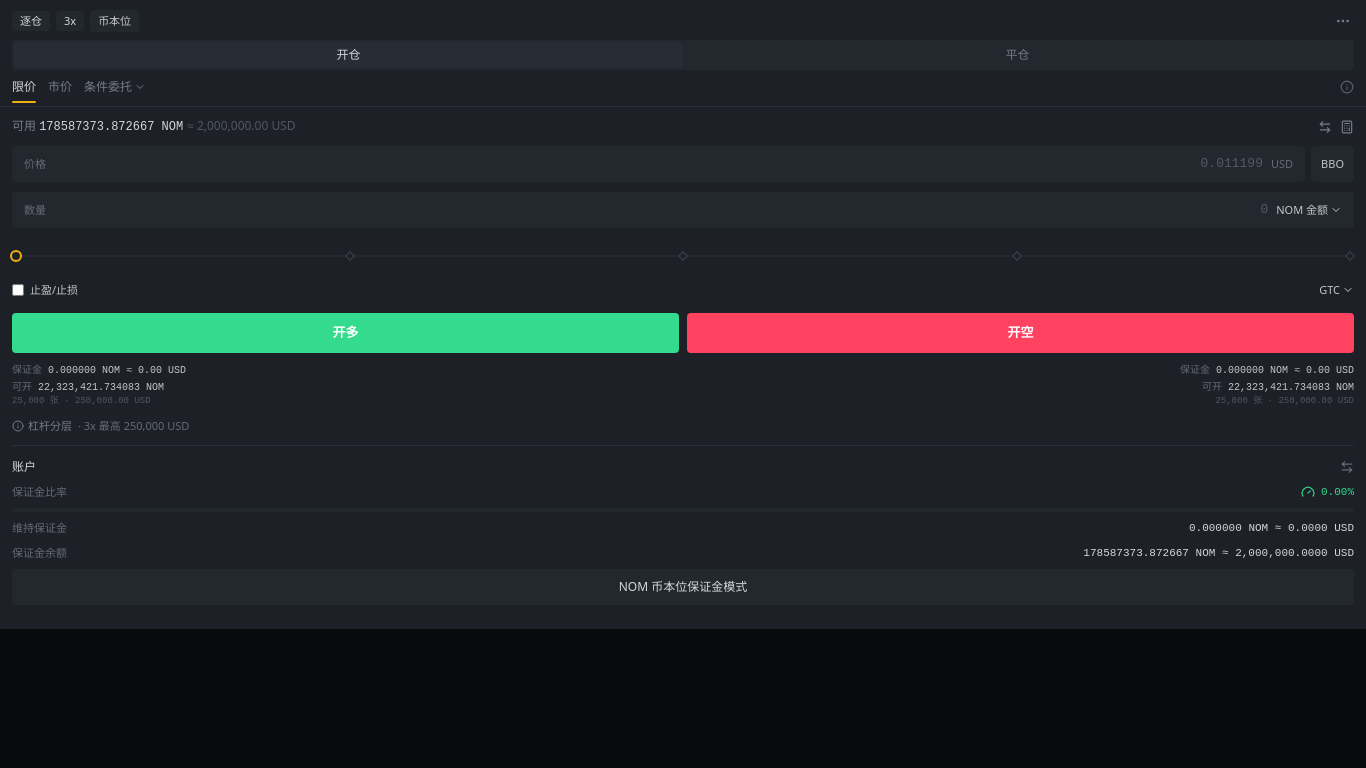
Test: 条件委托按触发价折算 › 最小下单量提示与拦截用同一个价——否则会出现「请至少填 892.96」却拒收 900
The width and height of the screenshot is (1366, 768).
Click the button with test id "advanced-type-slot": [115, 90] box [84, 78, 146, 102]
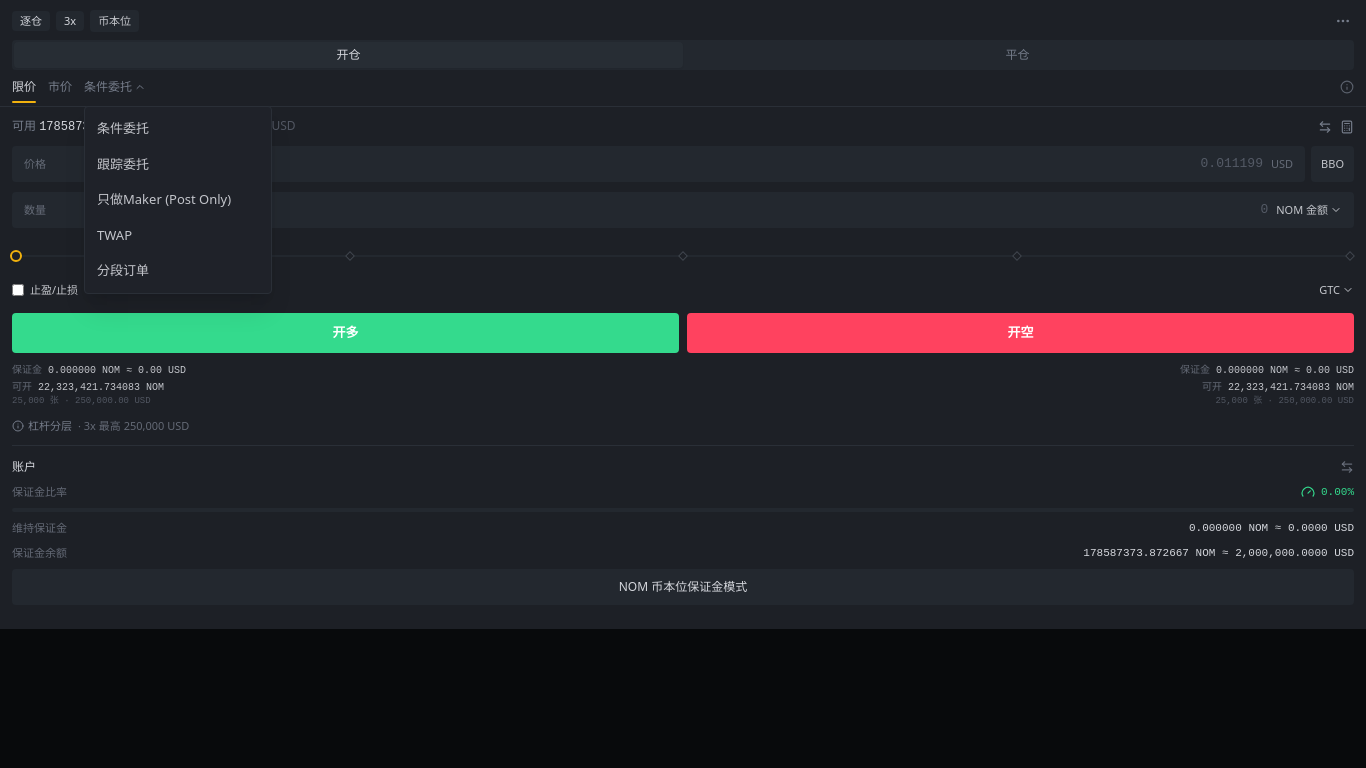
Click the 2nd button "条件委托": [178, 129] box [85, 111, 271, 146]
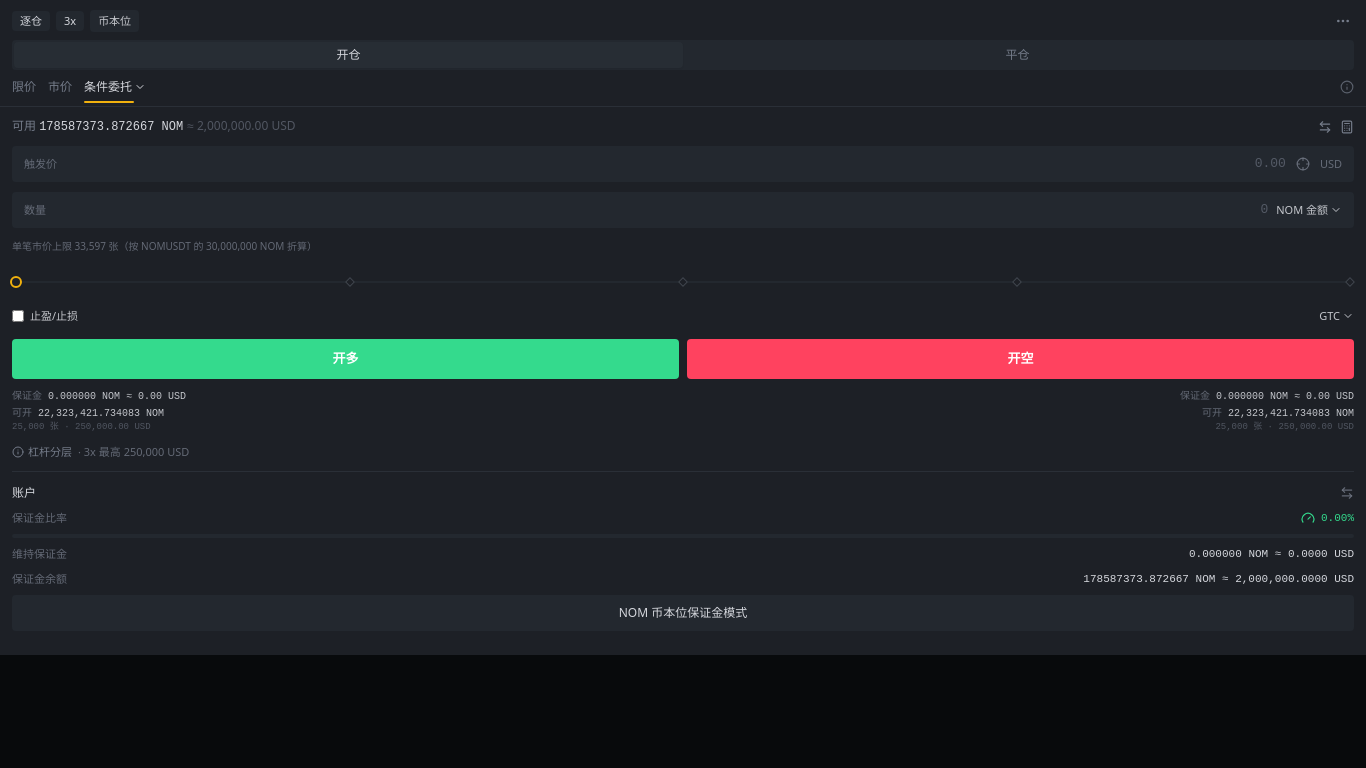
In the field with test id "order-trigger-price": [675, 164] box [65, 154, 1286, 174], type "0.010344"
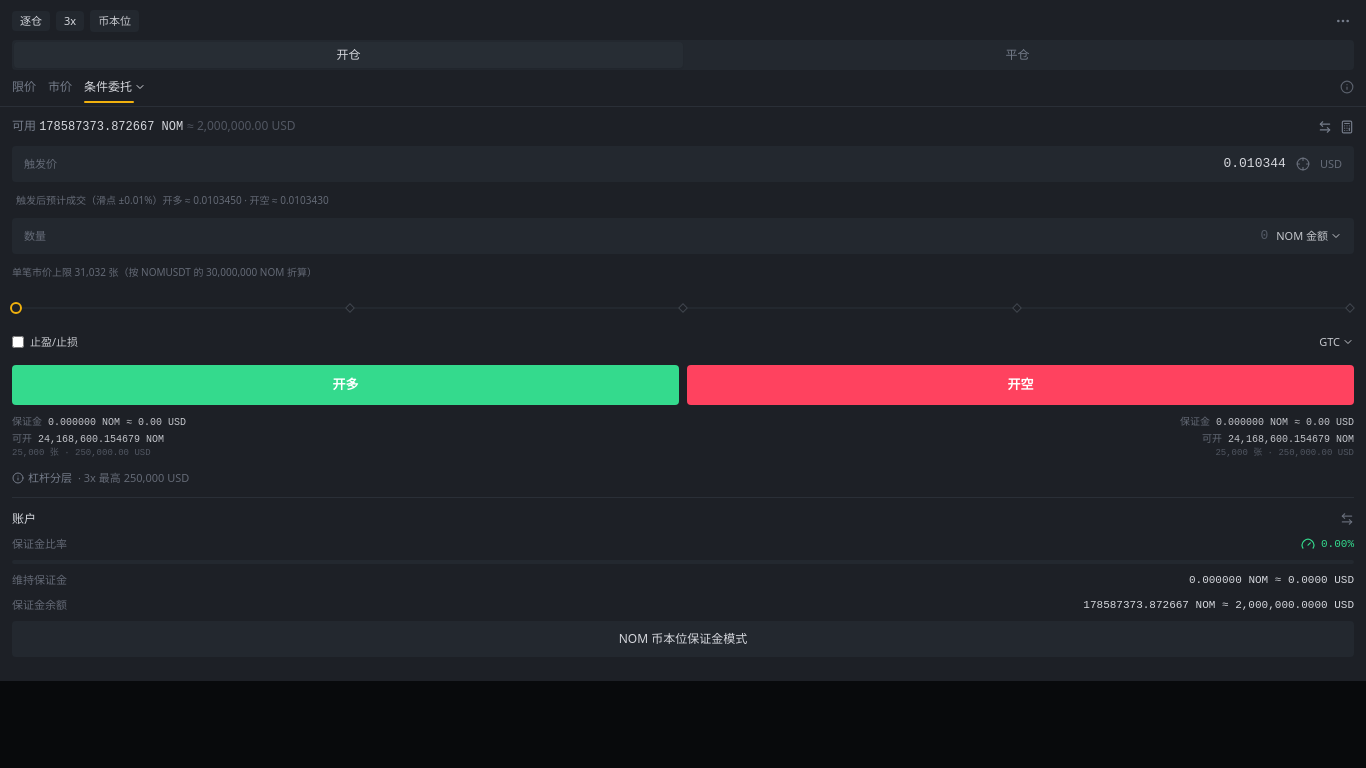
In the field with test id "order-qty-input": [661, 236] box [54, 226, 1268, 246], type "900"
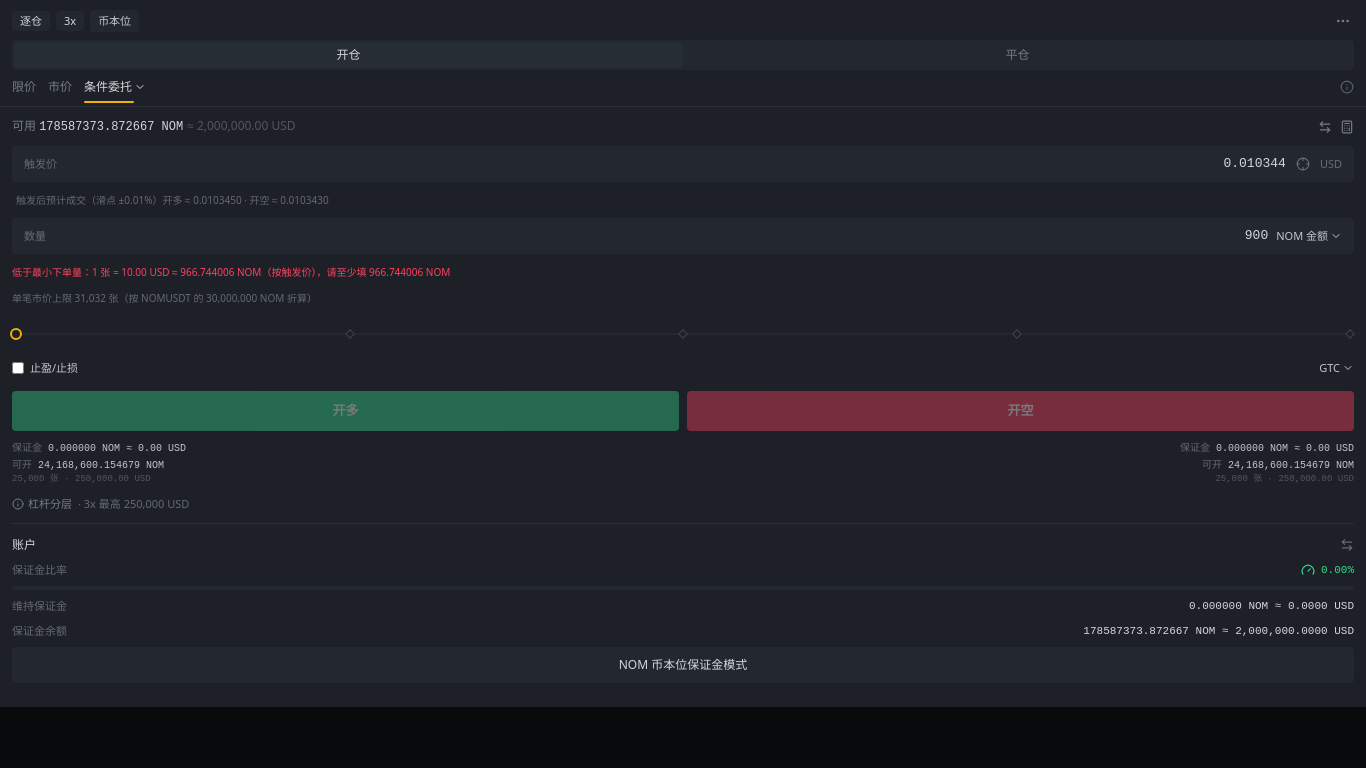
expect the text with test id "coin-min-order-hint" does not show "892.9": met, box [12, 265, 450, 279]
expect the text with test id "coin-min-order-hint" shows "966.744006": met, box [369, 265, 423, 279]
expect the text with test id "coin-min-order-hint" shows "按触发价": met, box [12, 265, 450, 279]
